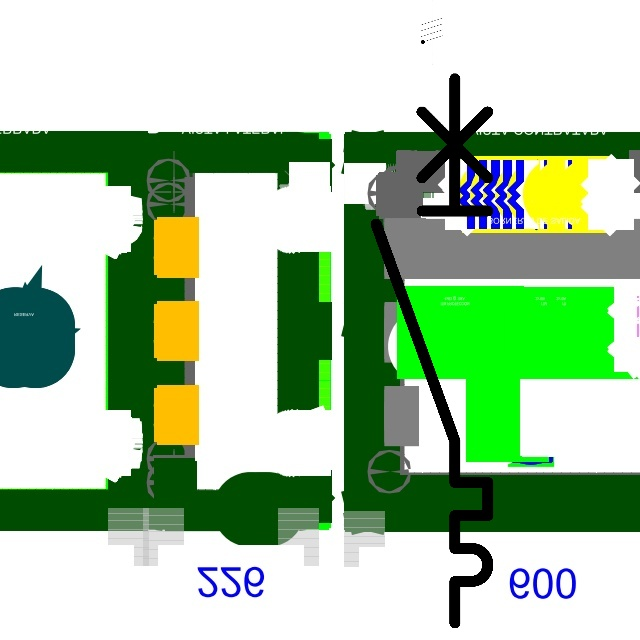interruptor_termomagnetico: (362, 64, 502, 636)
